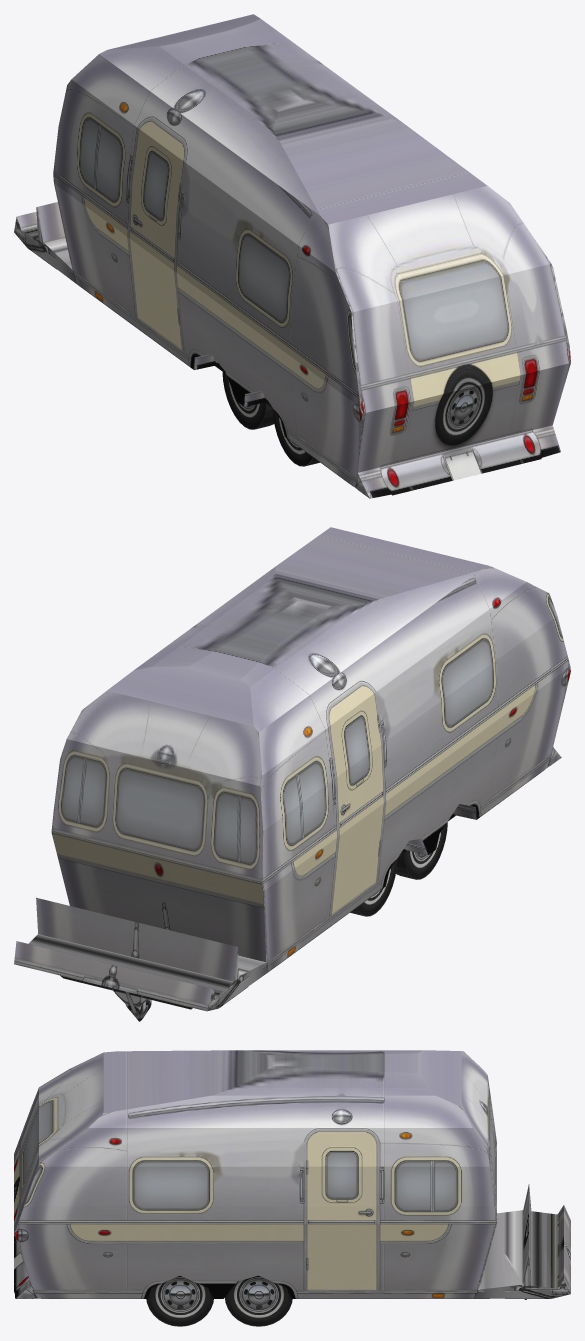
File: camper_trailer.glb
The picture shows the model from 3 angles, top to bottom: view 1: azimuth 30°, elevation 25°; view 2: azimuth 150°, elevation 25°; view 3: azimuth 270°, elevation 25°; orthographic projection. The views are drawn at different scales.
Visible parts, largest first — view 1: camper_trailer, wheel_FL, wheel_BL; view 2: camper_trailer, wheel_BL, wheel_FL; view 3: camper_trailer, wheel_FR, wheel_BR.
Part boxes in pixels (<box>): camper_trailer: <box>14,14,570,498</box>; wheel_FL: <box>222,369,274,429</box>; wheel_BL: <box>272,408,319,466</box>; camper_trailer: <box>14,527,570,1021</box>; wheel_BL: <box>396,822,447,879</box>; wheel_FL: <box>350,858,397,916</box>; camper_trailer: <box>14,1050,570,1299</box>; wheel_FR: <box>225,1275,292,1326</box>; wheel_BR: <box>146,1275,213,1326</box>.
Size of the model in its own units: 2.39 by 3.28 by 6.99.
3 materials, 1 textured.
